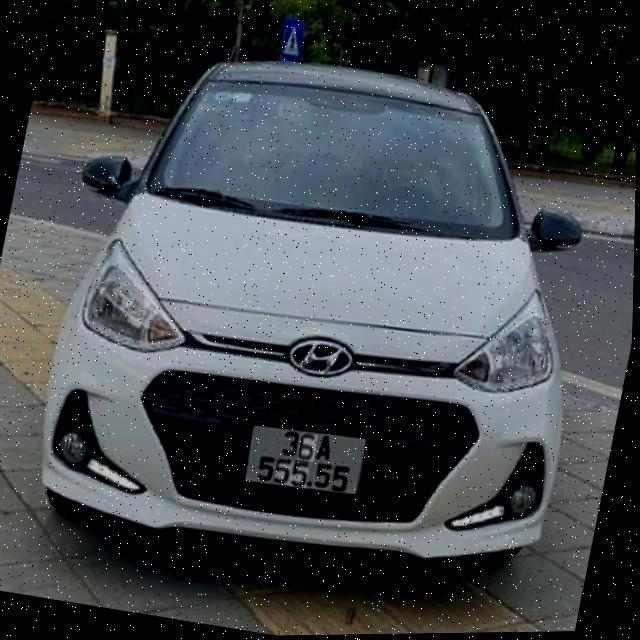car: (10, 20, 628, 623)
plate: (233, 410, 380, 507)
